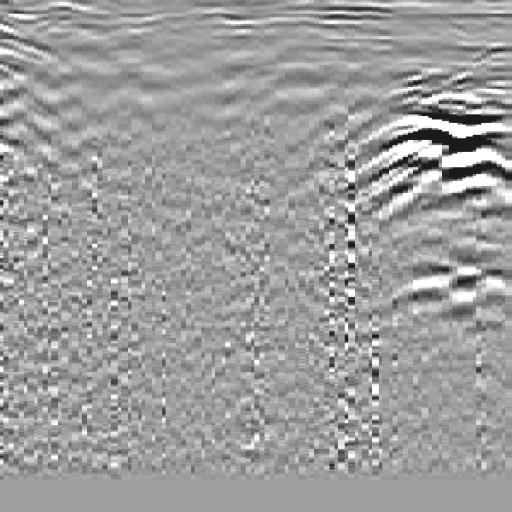metalic: (341, 67, 512, 257)
